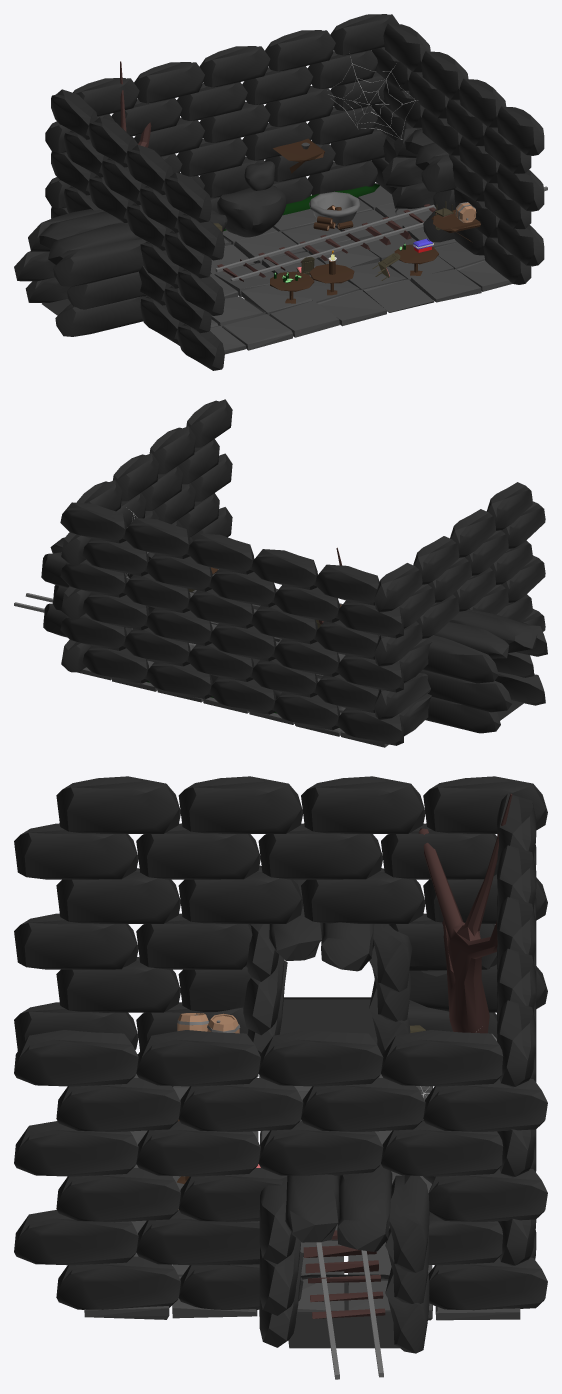
Rendered from 2_level.fbx.
3 views of the same model, one above another, from view 1: azimuth 30°, elevation 25°; view 2: azimuth 150°, elevation 25°; view 3: azimuth 270°, elevation 25° (orthographic). The views are drawn at different scales.
Visible parts, largest first — view 1: Wall.002, Floor, Sphere.002, Cube.006, Cylinder.001, Plat, Cylinder, Cube, Circle.001, prop, tree; view 2: Wall.002, Floor; view 3: Wall.002, Floor, tree, Cube.006, barrels.
Part boxes in pixels (left/top/right/bottom): Wall.002: left=14, top=14, right=544, bottom=370; Floor: left=176, top=182, right=512, bottom=354; Sphere.002: left=210, top=161, right=286, bottom=237; Cube.006: left=215, top=186, right=547, bottom=281; Cylinder.001: left=270, top=244, right=438, bottom=303; Plat: left=273, top=138, right=480, bottom=242; Cylinder: left=309, top=191, right=360, bottom=225; Cube: left=213, top=201, right=453, bottom=280; Circle.001: left=327, top=57, right=417, bottom=139; prop: left=313, top=205, right=353, bottom=274; tree: left=120, top=61, right=151, bottom=147; Wall.002: left=41, top=399, right=547, bottom=745; Floor: left=77, top=573, right=388, bottom=747; Wall.002: left=14, top=776, right=547, bottom=1353; Floor: left=84, top=1054, right=520, bottom=1320; tree: left=419, top=793, right=512, bottom=1033; Cube.006: left=303, top=1230, right=385, bottom=1379; barrels: left=177, top=1013, right=258, bottom=1209.
Bounding box in the file's own units: 2228 × 810 × 1237.
